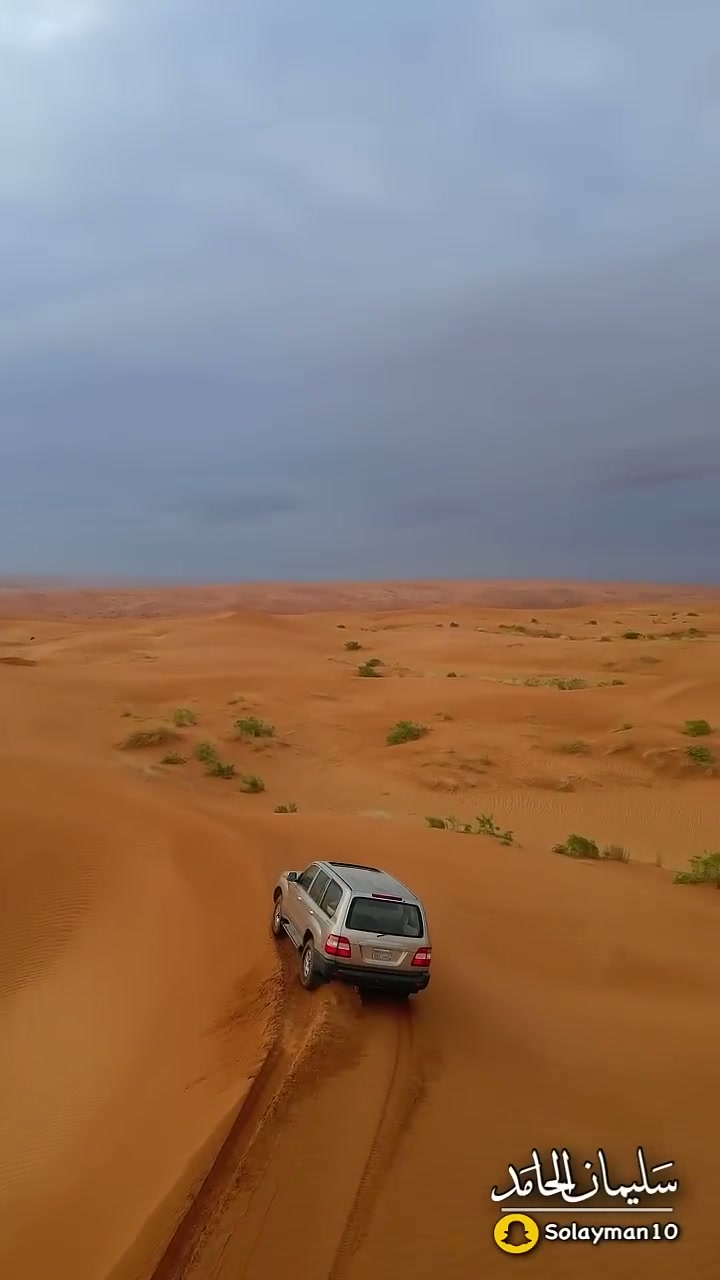vehicle_track: (150, 957, 321, 1279), (327, 1006, 424, 1279)
